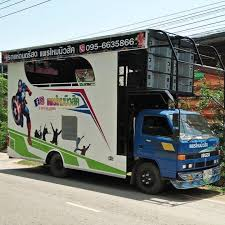truck: (4, 27, 222, 195)
